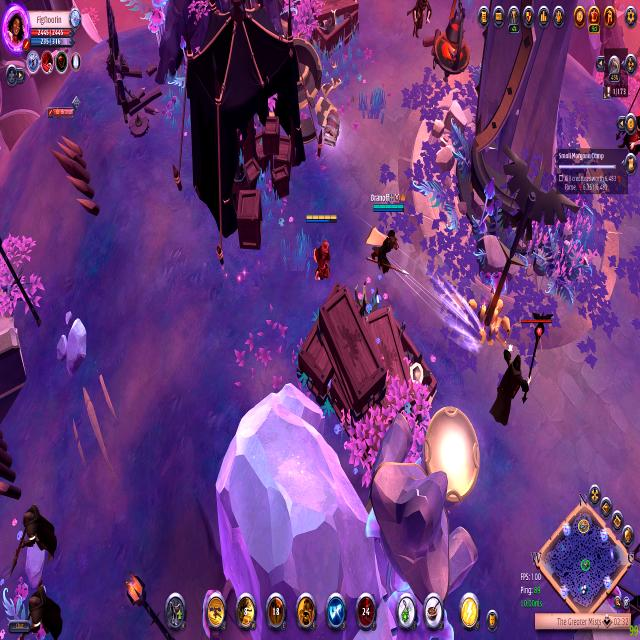ore: (481, 304, 557, 428), (6, 486, 62, 582), (12, 581, 68, 640), (613, 81, 640, 164), (405, 0, 436, 45)
red: (366, 182, 412, 280), (303, 203, 341, 297)
